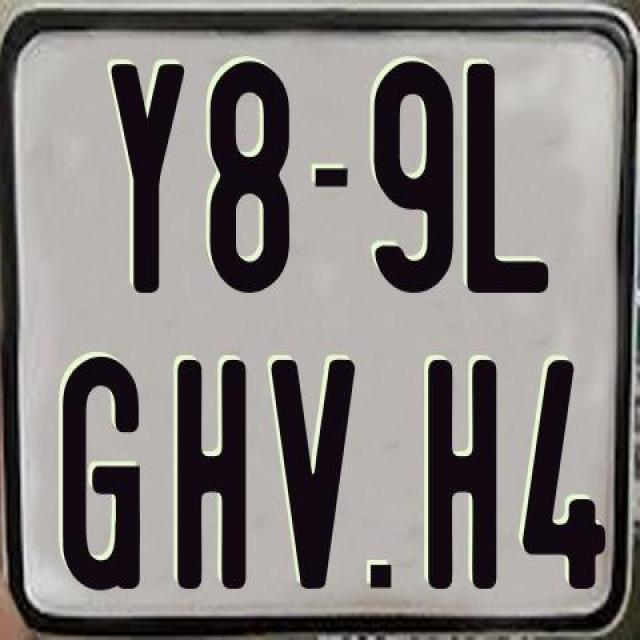4: (518, 356, 604, 590)
8: (209, 59, 295, 296)
9: (373, 56, 455, 298)
G: (62, 357, 140, 600)
H: (426, 360, 504, 592), (173, 358, 246, 590)
L: (462, 60, 550, 298)
V: (266, 355, 358, 584)
Y: (106, 59, 182, 298)
